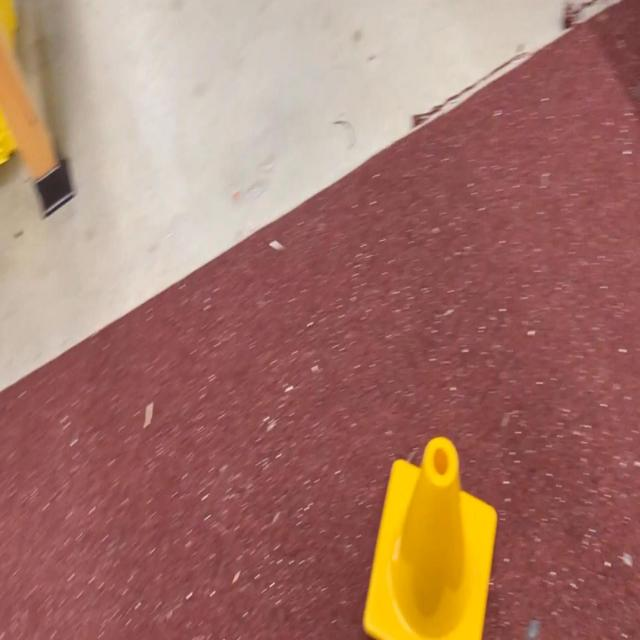frc_cone: (361, 438, 497, 640)
